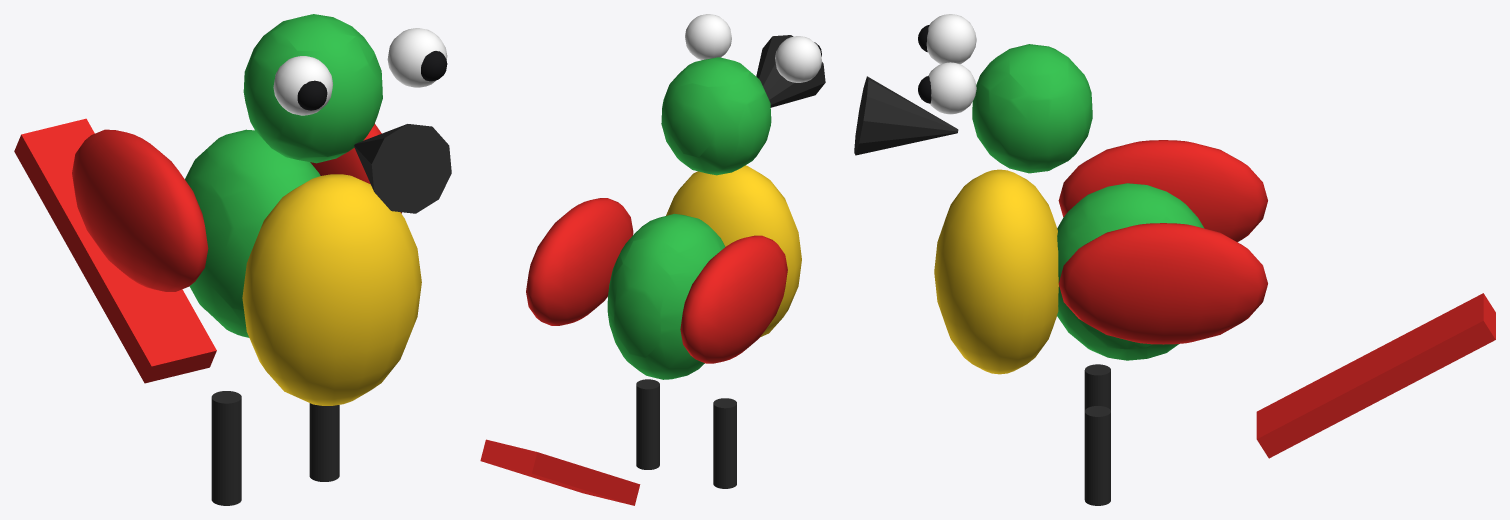
The model's file is parrot.glb.
3 renders of one model, left to right at view 1: azimuth 30°, elevation 25°; view 2: azimuth 150°, elevation 25°; view 3: azimuth 270°, elevation 25°, orthographic. The views are drawn at different scales.
Visible parts, largest first — view 1: Sphere, Parrot, Sphere.002, Cube, Cone, Cylinder.001, Cylinder, Sphere.003, Sphere.005, Sphere.001, Sphere.006, Sphere.004; view 2: Parrot, Sphere.002, Sphere.001, Sphere, Cube, Cylinder.001, Cylinder, Cone, Sphere.005, Sphere.003; view 3: Sphere, Parrot, Sphere.001, Cube, Sphere.002, Cone, Cylinder, Sphere.005, Sphere.003, Cylinder.001.
Boxes of the visible parts, left/top/right/bottom form: Sphere: left=242, top=174, right=421, bottom=405; Parrot: left=185, top=14, right=382, bottom=337; Sphere.002: left=72, top=129, right=208, bottom=291; Cube: left=14, top=118, right=216, bottom=383; Cone: left=354, top=124, right=451, bottom=213; Cylinder.001: left=211, top=391, right=241, bottom=505; Cylinder: left=309, top=403, right=339, bottom=481; Sphere.003: left=387, top=28, right=447, bottom=87; Sphere.005: left=273, top=56, right=332, bottom=115; Sphere.001: left=310, top=123, right=401, bottom=213; Sphere.006: left=297, top=80, right=327, bottom=110; Sphere.004: left=421, top=51, right=447, bottom=81; Parrot: left=607, top=57, right=771, bottom=379; Sphere.002: left=680, top=235, right=787, bottom=363; Sphere.001: left=526, top=198, right=633, bottom=325; Sphere: left=666, top=165, right=801, bottom=337; Cube: left=480, top=439, right=640, bottom=505; Cylinder.001: left=713, top=398, right=736, bottom=488; Cylinder: left=636, top=379, right=659, bottom=469; Cone: left=756, top=35, right=825, bottom=107; Sphere.005: left=775, top=36, right=821, bottom=82; Sphere.003: left=685, top=14, right=731, bottom=59; Sphere: left=934, top=169, right=1058, bottom=374; Parrot: left=972, top=44, right=1204, bottom=360; Sphere.001: left=1058, top=223, right=1267, bottom=344; Cube: left=1256, top=293, right=1495, bottom=458; Sphere.002: left=1058, top=140, right=1267, bottom=241; Cone: left=854, top=76, right=958, bottom=155; Cylinder: left=1084, top=406, right=1110, bottom=505; Sphere.005: left=926, top=14, right=976, bottom=63; Sphere.003: left=928, top=62, right=976, bottom=114; Cylinder.001: left=1084, top=364, right=1110, bottom=410.
Size of the model in its own units: 0.16 by 0.296 by 0.3919.
